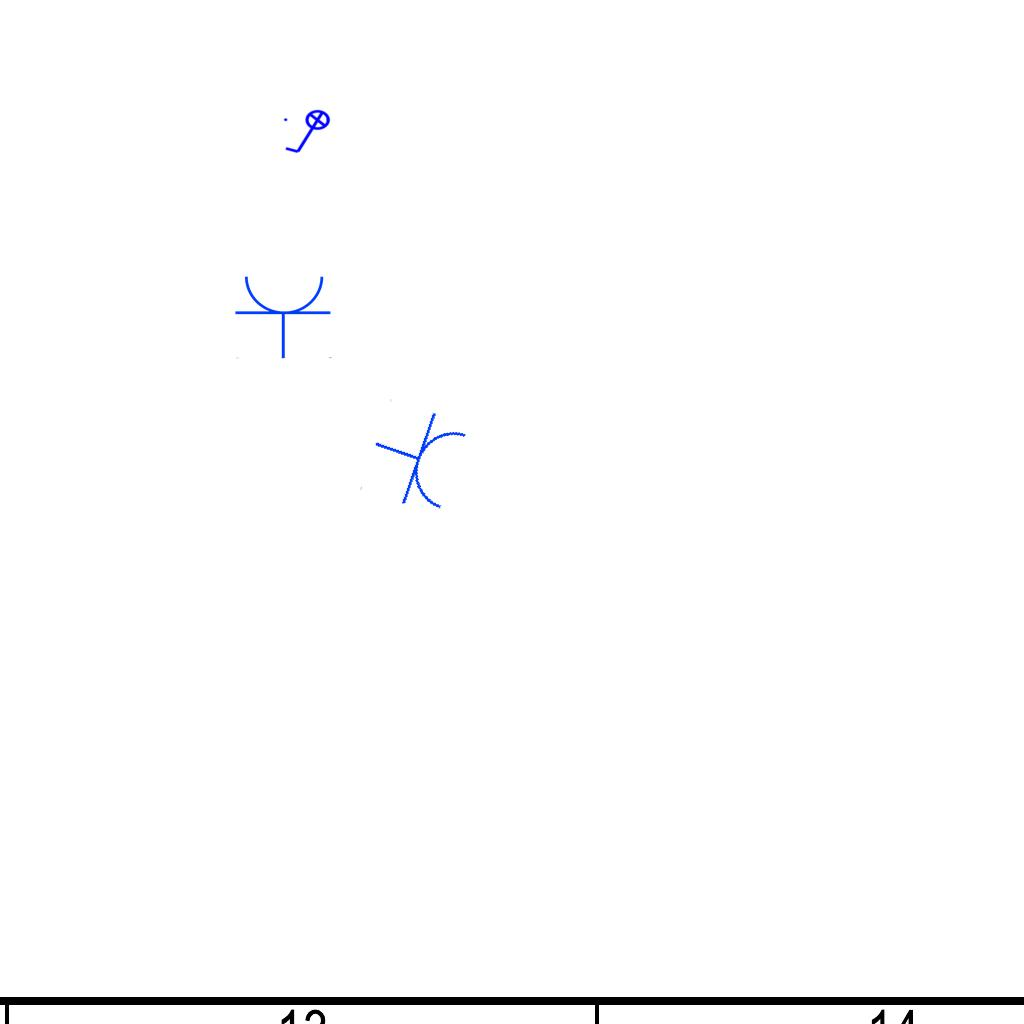Ausschalter_beleuchtet: (281, 109, 337, 157)
Schukosteckdose_einfach: (358, 397, 474, 520), (234, 272, 334, 359)
